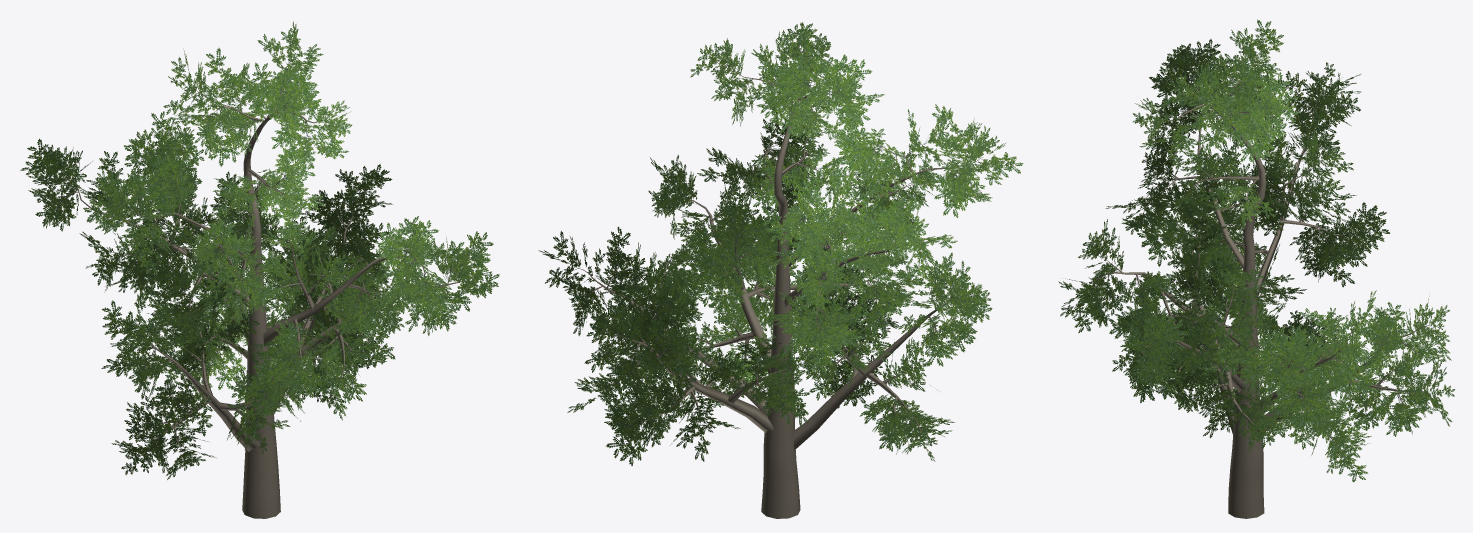
The model's file is ash.glb.
The picture shows the model from 3 angles, left to right: view 1: azimuth 30°, elevation 25°; view 2: azimuth 150°, elevation 25°; view 3: azimuth 270°, elevation 25°; orthographic projection. The views are drawn at different scales.
Visible parts, largest first — view 1: Leaves_LOD0, Trunk_LOD0; view 2: Leaves_LOD0, Trunk_LOD0; view 3: Leaves_LOD0, Trunk_LOD0.
Boxes of the visible parts, bbox=[...] form: Leaves_LOD0: bbox=[20, 21, 499, 479]; Trunk_LOD0: bbox=[62, 55, 462, 518]; Leaves_LOD0: bbox=[538, 22, 1023, 465]; Trunk_LOD0: bbox=[578, 50, 983, 518]; Leaves_LOD0: bbox=[1058, 19, 1455, 482]; Trunk_LOD0: bbox=[1092, 59, 1429, 518].
Size of what is drawn, in the model's own units: 4.3 by 4.9 by 3.89.
Materials: 2 (1 with a texture image).
